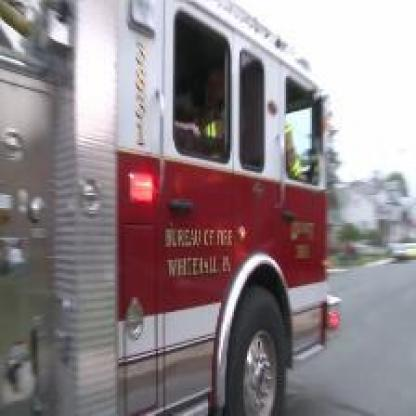other: (112, 166, 320, 264)
